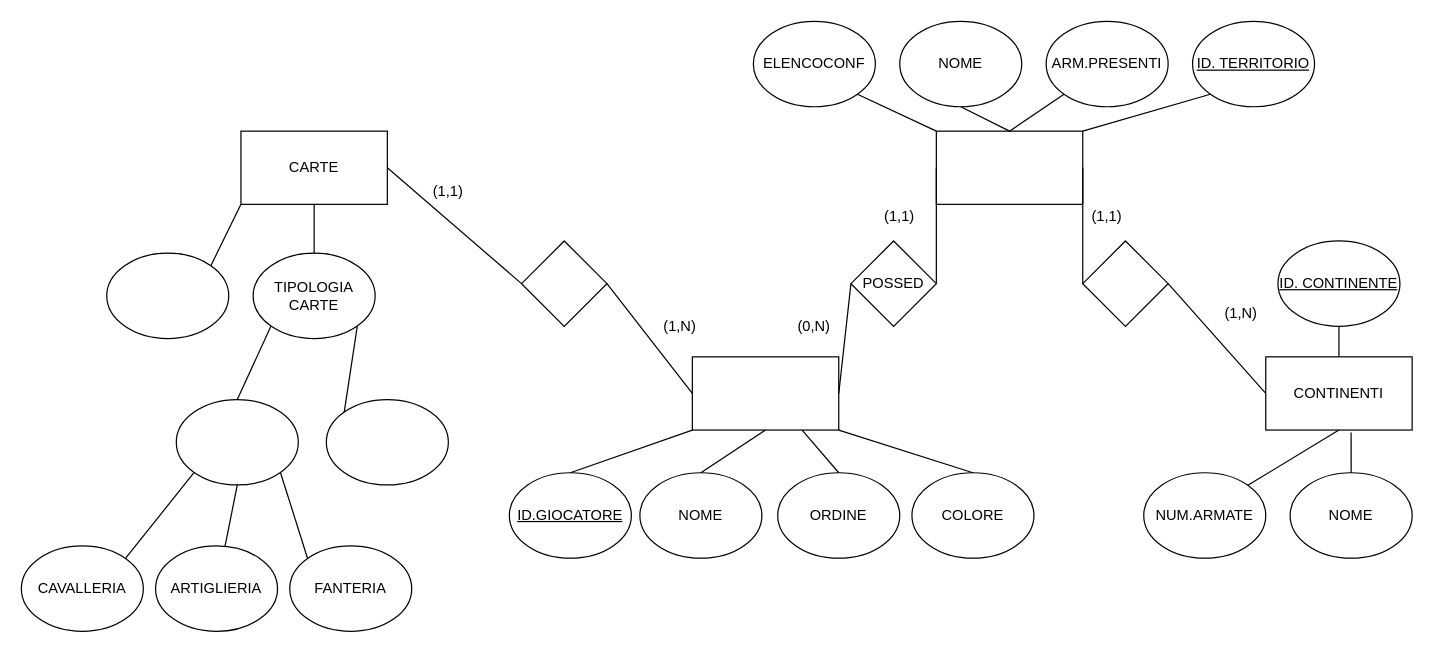
This 1434x653 diagram has some shape labels left out. Here are the shapes that lost their labels. From the top down, the box of each, then its label:
(935, 130, 1083, 204): TERRITORI
(106, 252, 229, 339): ID.CARTE
(520, 240, 607, 326): PESCATA
(1082, 240, 1168, 326): GEOG
(691, 356, 839, 430): GIOCATORI
(175, 398, 298, 485): CARTEORDIN
(325, 398, 448, 485): CARTEJOLLY
